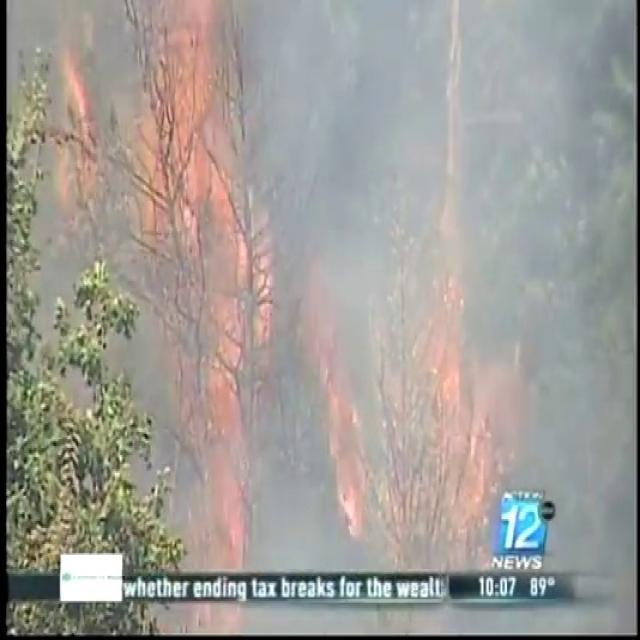Smoke: (186, 1, 634, 579)
